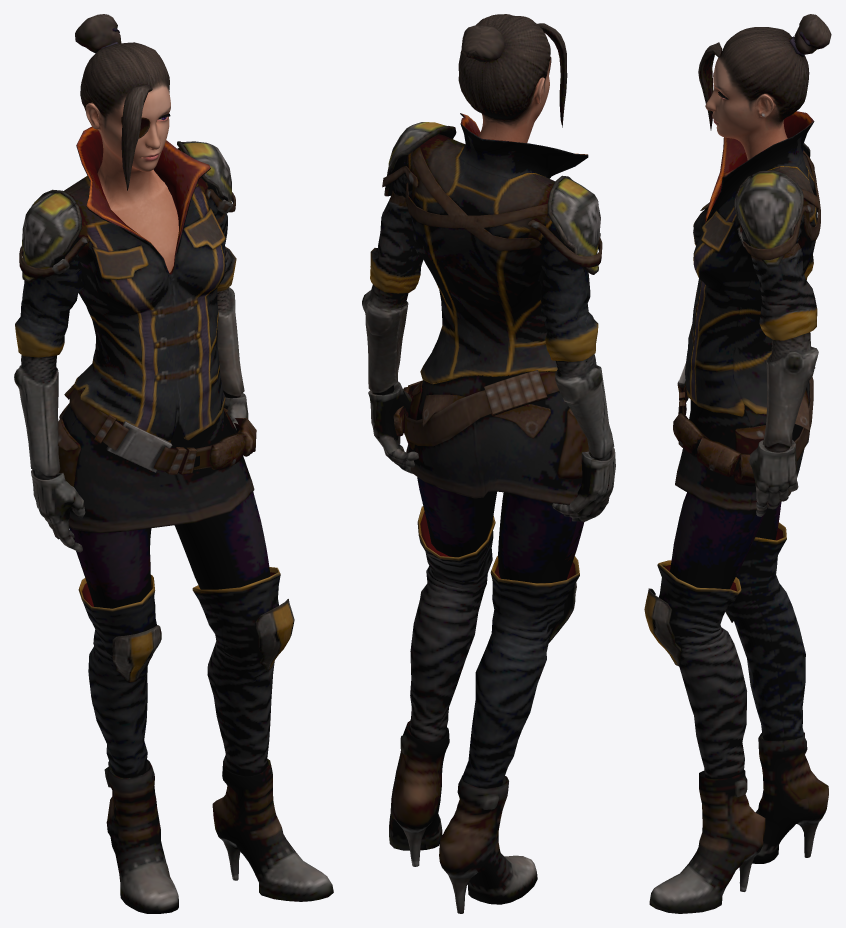
Rendered from Idle04.obj.
3 renders of one model, left to right at view 1: azimuth 30°, elevation 25°; view 2: azimuth 150°, elevation 25°; view 3: azimuth 270°, elevation 25°, orthographic. The views are drawn at different scales.
Parts seen in each view (by area): view 1: Mesh; view 2: Mesh; view 3: Mesh.
Part boxes in pixels (left/top/right/bottom): Mesh: left=14, top=14, right=333, bottom=913; Mesh: left=362, top=14, right=615, bottom=913; Mesh: left=644, top=14, right=831, bottom=913.
Bounding box in the file's own units: 16.65 × 53.89 × 11.03.
Materials: 1 (1 with a texture image).
